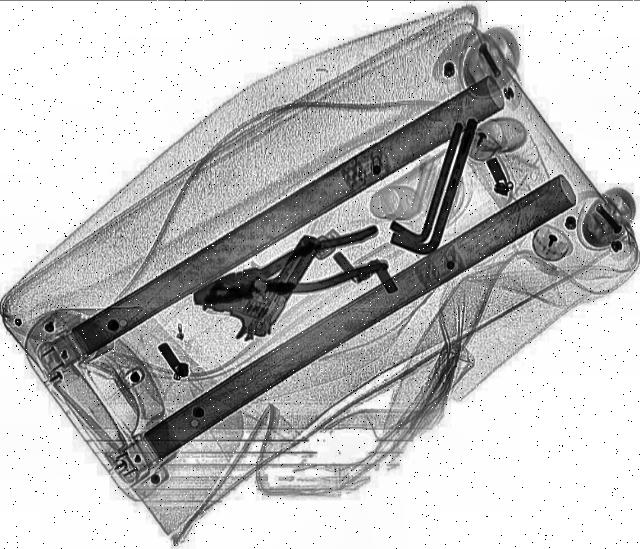Gun: (189, 214, 323, 348)
Pliers: (183, 223, 397, 319)
